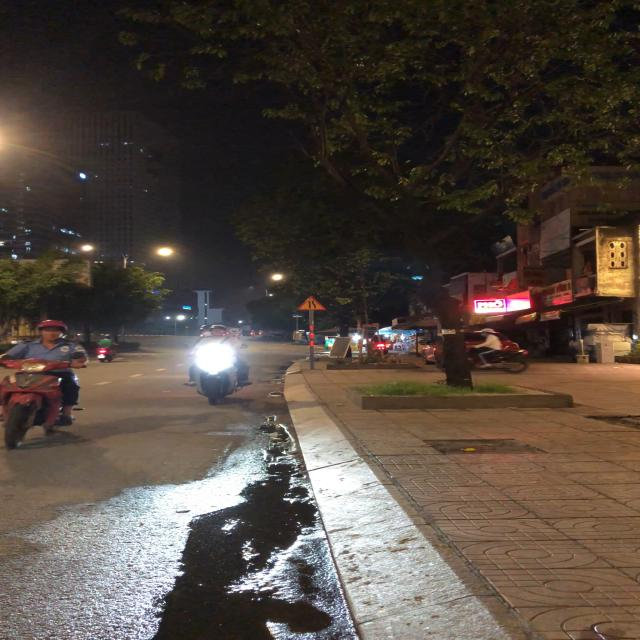Bien bao duong bi thu hep: (295, 295, 328, 313)
